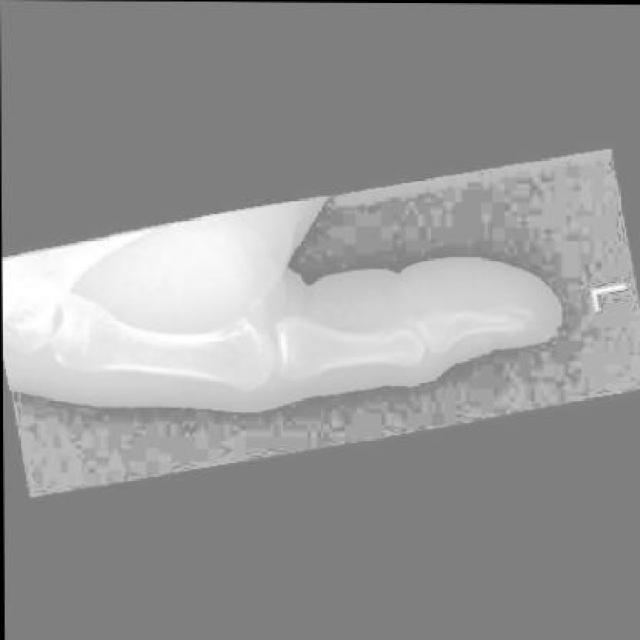Fracture: (493, 289, 550, 334), (404, 295, 442, 328)
